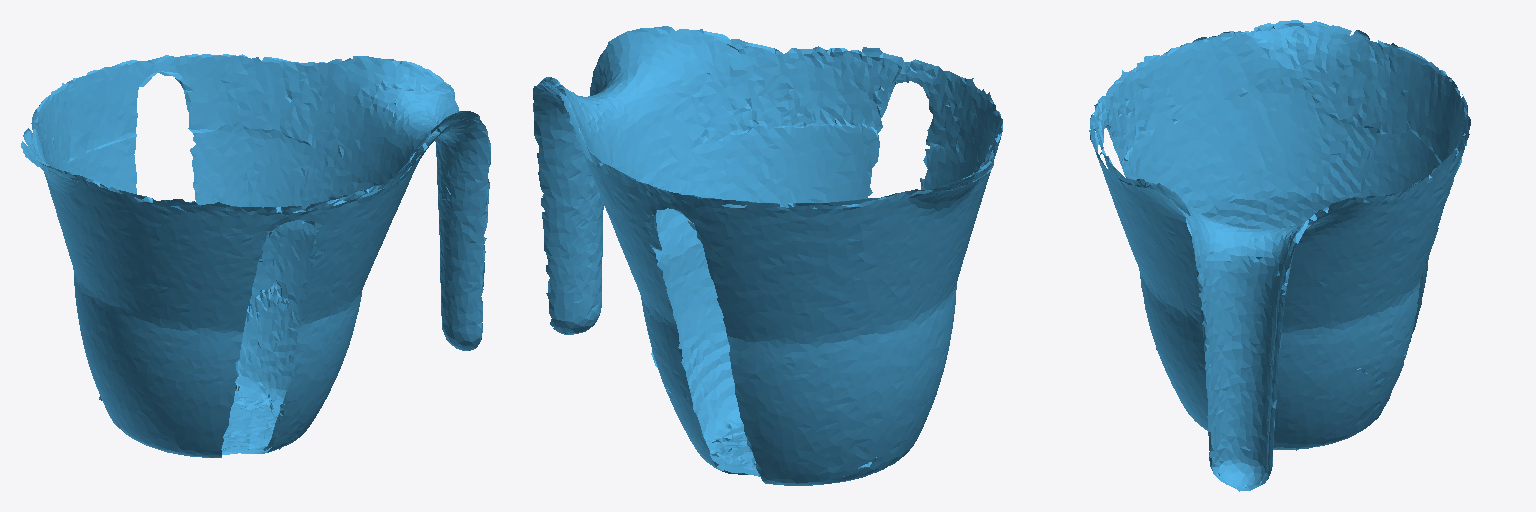
robot.urdf — graspable:
<?xml version="1.0" ?>
<!-- =================================================================================== -->
<!-- |    This document was autogenerated by xacro from [local-path]/ws_velma/underlay/src/barrett_hand_robot/barrett_hand_defs/robots/barrett_hand.urdf.xml | -->
<!-- |    EDITING THIS FILE BY HAND IS NOT RECOMMENDED                                 | -->
<!-- =================================================================================== -->
<robot name="graspable" xmlns:controller="http://playerstage.sourceforge.net/gazebo/xmlschema/#controller" xmlns:geom="http://playerstage.sourceforge.net/gazebo/xmlschema/#geom" xmlns:interface="http://playerstage.sourceforge.net/gazebo/xmlschema/#interface" xmlns:sensor="http://playerstage.sourceforge.net/gazebo/xmlschema/#sensor" xmlns:xacro="http://www.ros.org/wiki/xacro">
  <material name="DarkGrey">
    <color rgba="0.3 0.3 0.3 1.0"/>
  </material>
  <material name="Red">
    <color rgba="0.3 0.3 0.3 1.0"/>
  </material>
  <material name="Black">
    <color rgba="0 0 0 1.0"/>
  </material>
  <material name="Orange">
    <color rgba="1.0 0.487 0 1.0"/>
  </material>
  <material name="Silver">
    <color rgba="1.0 1.0 1.0 1.0"/>
  </material>
  <material name="Grey">
    <color rgba="0.7 0.7 0.7 1.0"/>
  </material>
  <material name="Blue">
    <color rgba="0.0 0.0 0.8 1.0"/>
  </material>
  <material name="HandGray">
    <color rgba="0.953 0.996 0.694 1.0"/>
  </material>
  <material name="SickBlue">
    <color rgba="0.3058 0.5921 0.7294 1.0"/>
  </material>
  <link name="world"/>
  <joint name="arm_world_joint" type="floating">
    <origin rpy="0 0 0" xyz="0 0 0"/>
    <parent link="world"/>
    <child link="graspable"/>
  </joint>
  <link name="graspable">
    <inertial>
      <origin xyz="0.0 0.0 0.0"/>
      <mass value="0.63352875"/>
      <inertia ixx="0.00102103" ixy="0.00000775" ixz="-0.00001230" iyy="0.00080944" iyz="-0.00014417" izz="0.00068788"/>
    </inertial>
    <visual>
      <origin rpy="0 0 0" xyz="0 0 0"/>
      <geometry>
        <mesh filename="package://barrett_hand_sim_dart/meshes/container_1d.stl"/>
      </geometry>
    </visual>
    <!-- collision mesh used for whole arm motion planning -->
    <!-- collision mesh used for grasp planning -->
    <collision>
      <origin rpy="0 0 0" xyz="0 0 0"/>
      <geometry>
        <mesh filename="package://barrett_hand_sim_dart/meshes/container_1d.stl"/>
      </geometry>
    </collision>
  </link>
</robot>

--- Render facts (derived) ---
The picture shows the robot from 3 angles, left to right: view 1: azimuth 30°, elevation 25°; view 2: azimuth 150°, elevation 25°; view 3: azimuth 270°, elevation 25°; orthographic projection.
Robot: graspable — 2 links, 1 joints (1 floating); root link world; default pose: every joint at zero.
Links seen in each view (by area): view 1: graspable; view 2: graspable; view 3: graspable.
Boxes of the visible links, bbox=[...] form: graspable: bbox=[21, 54, 490, 457]; graspable: bbox=[533, 26, 1002, 485]; graspable: bbox=[1089, 20, 1470, 491].
Size in the robot's own frame: 0.1942 by 0.1508 by 0.1386 metres.
1 mesh visuals loaded from 1 distinct referenced files (1 binary STL).
